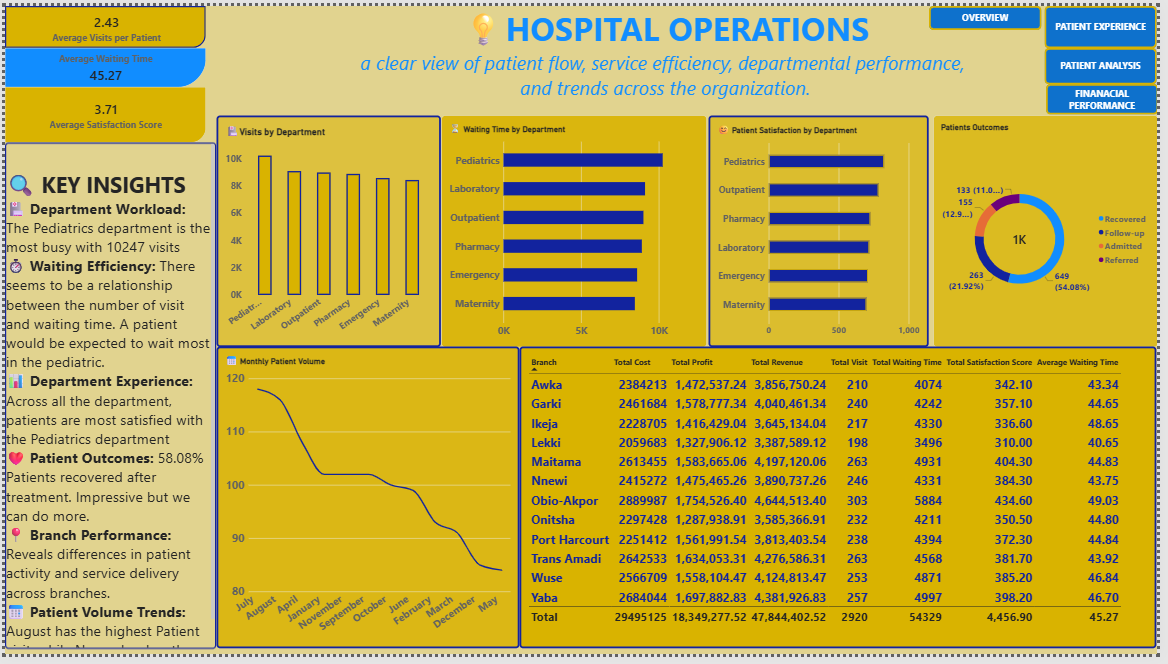

The page's visual inventory and layout, read from the dashboard file:
{"tool":"powerbi","page":{"name":"HOSPITAL OPERATIONS","canvas":[2560,1440],"ordinal":2},"visuals":[{"type":"clusteredBarChart","title":"⏳ Waiting Time by Department","fields":{"Category":["Patient_Visits.Department"],"Y":["Date_Table.Total Waiting Time"]},"box":[971.5,242.9,589.4,514.9],"z":0},{"type":"cardVisual","fields":{"Data":["Date_Table.Average Visits per Patient"]},"box":[0,0,446.9,93.5],"z":1000},{"type":"cardVisual","fields":{"Data":["Date_Table.Average Waiting Time"]},"box":[0,93.5,446.9,87],"z":2000},{"type":"cardVisual","fields":{"Data":["Date_Table.Average Satisfaction Score"]},"box":[0,181.4,446.9,123.1],"z":3000},{"type":"clusteredColumnChart","title":"🏥Visits by Department","fields":{"Category":["Patient_Visits.Department"],"Y":["Date_Table.Total Waiting Time"]},"box":[469.6,242.9,498.7,514.9],"z":4000},{"type":"clusteredBarChart","title":"😊 Patient Satisfaction by Department","fields":{"Category":["Patient_Visits.Department"],"Y":["Date_Table.Total Satisfaction Score"]},"box":[1564.2,242.9,489,514.9],"z":5000},{"type":"textbox","box":[378.9,0,2182.7,210.5],"z":6000},{"type":"donutChart","title":"Patients Outcomes","fields":{"Category":["Patient_Visits.Outcome"],"Y":["Date_Table.Total Patients"]},"box":[2062.9,242.9,498.7,514.9],"z":7000},{"type":"actionButton","box":[2053.2,0,250.2,53.4],"z":8000},{"type":"tableEx","fields":{"Values":["Patient_Visits.Branch","Date_Table.Total Cost","Date_Table.Total Profit","Date_Table.Total Revenue","Date_Table.Total Visit","Date_Table.Total Waiting Time","Date_Table.Total Satisfaction Score","Date_Table.Average Waiting Time"]},"box":[1143.2,757.8,1415.2,670.4],"z":9000},{"type":"lineChart","title":"📅 Monthly Patient Volume","fields":{"Category":["Date_Table.Month"],"Y":["Date_Table.Total Patients"]},"box":[469.6,757.8,673.6,670.4],"z":10000},{"type":"actionButton","box":[2309,0,249.4,93.9],"z":11000},{"type":"actionButton","box":[2312.3,174.9,249.4,68],"z":12000},{"type":"actionButton","box":[2309,93.9,249.4,81],"z":13000},{"type":"textbox","box":[0,303,469.6,1125.1],"z":14000}]}

Visuals, with their boxes in screenshot pixels (x1, y1, x2, y2), scaled from the page's 2560x1440 canvas onto the 1168x664 screenshot:
"⏳ Waiting Time by Department" clusteredBarChart: select_region(443, 112, 712, 349)
cardVisual - Date_Table.Average Visits per Patient: select_region(0, 0, 204, 43)
cardVisual - Date_Table.Average Waiting Time: select_region(0, 43, 204, 83)
cardVisual - Date_Table.Average Satisfaction Score: select_region(0, 84, 204, 140)
"🏥Visits by Department" clusteredColumnChart: select_region(214, 112, 442, 349)
"😊 Patient Satisfaction by Department" clusteredBarChart: select_region(714, 112, 937, 349)
textbox: select_region(173, 0, 1167, 97)
"Patients Outcomes" donutChart: select_region(941, 112, 1167, 349)
actionButton: select_region(937, 0, 1051, 25)
tableEx - Patient_Visits.Branch x Date_Table.Total Cost: select_region(522, 349, 1167, 659)
"📅 Monthly Patient Volume" lineChart: select_region(214, 349, 522, 659)
actionButton: select_region(1053, 0, 1167, 43)
actionButton: select_region(1055, 81, 1167, 112)
actionButton: select_region(1053, 43, 1167, 81)
textbox: select_region(0, 140, 214, 659)
